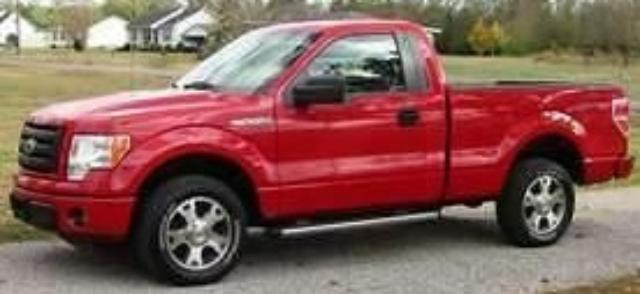pickup-truck: (8, 19, 637, 285)
